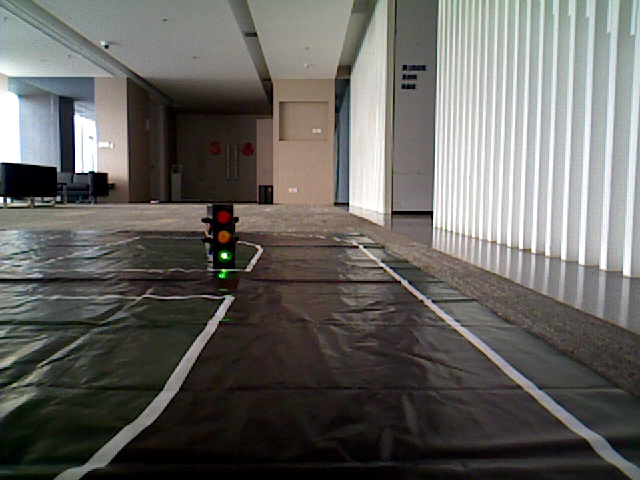green: (206, 209, 238, 265)
